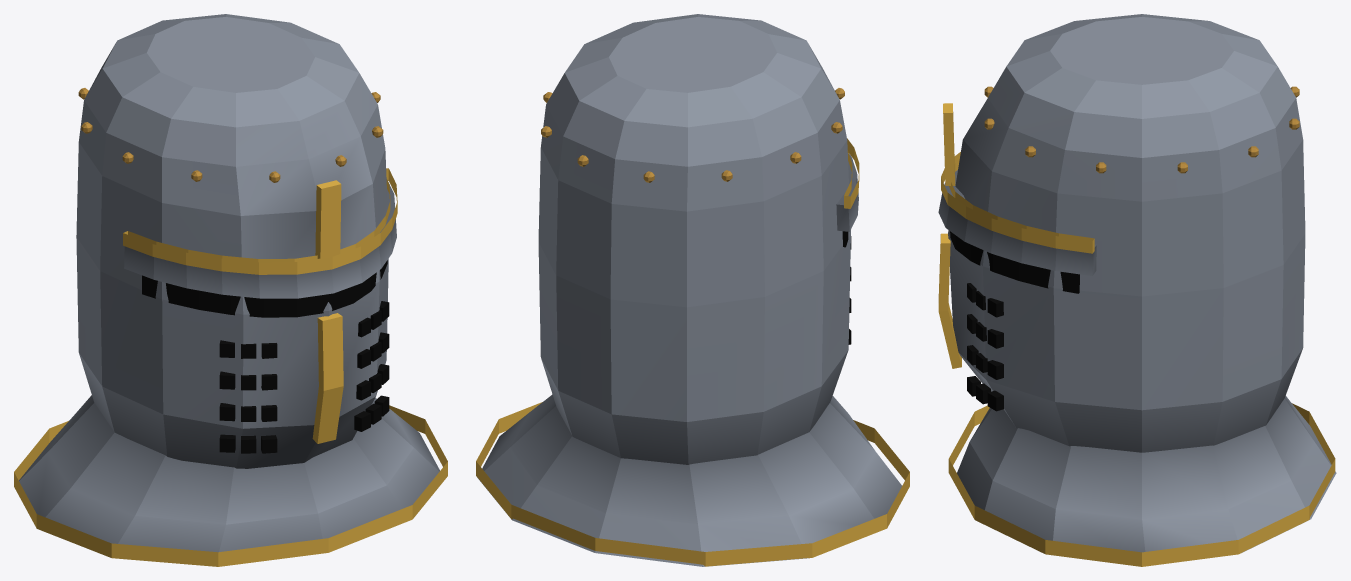
File: h_great.glb
The picture shows the model from 3 angles, left to right: view 1: azimuth 30°, elevation 25°; view 2: azimuth 150°, elevation 25°; view 3: azimuth 270°, elevation 25°; orthographic projection.
Visible parts, largest first — view 1: Great; view 2: Great; view 3: Great.
Part boxes in pixels (box(x1,y1,x2,y2)): Great: box(14, 14, 447, 566); Great: box(476, 14, 909, 566); Great: box(938, 14, 1336, 566).
Bounding box in the file's own units: 0.386 × 0.405 × 0.346.
